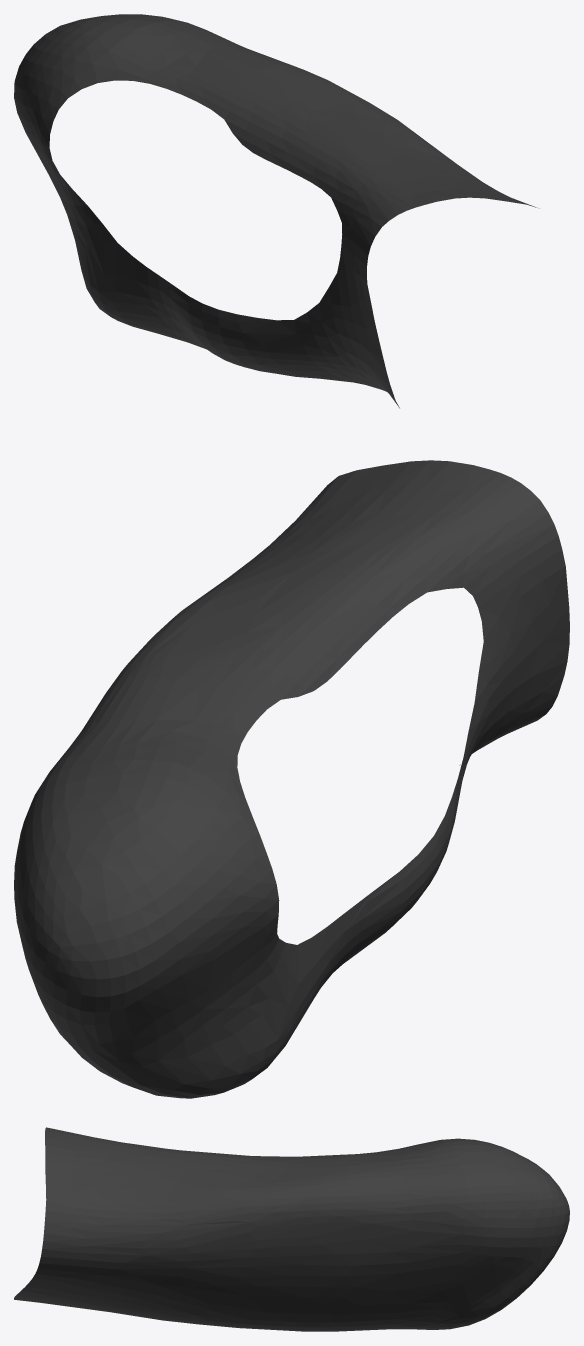
The model's file is Ulna_styloid_process.glb.
3 renders of one model, top to bottom at view 1: azimuth 30°, elevation 25°; view 2: azimuth 150°, elevation 25°; view 3: azimuth 270°, elevation 25°, orthographic. The views are drawn at different scales.
Parts seen in each view (by area): view 1: Ulna_styloid_process; view 2: Ulna_styloid_process; view 3: Ulna_styloid_process.
Part boxes in pixels (<box>): Ulna_styloid_process: <box>14,14,538,408</box>; Ulna_styloid_process: <box>14,460,569,1098</box>; Ulna_styloid_process: <box>14,1127,569,1331</box>.
Bounding box in the file's own units: 0.1253 × 0.1368 × 0.3299.
Materials: 1 (1 with a texture image).
